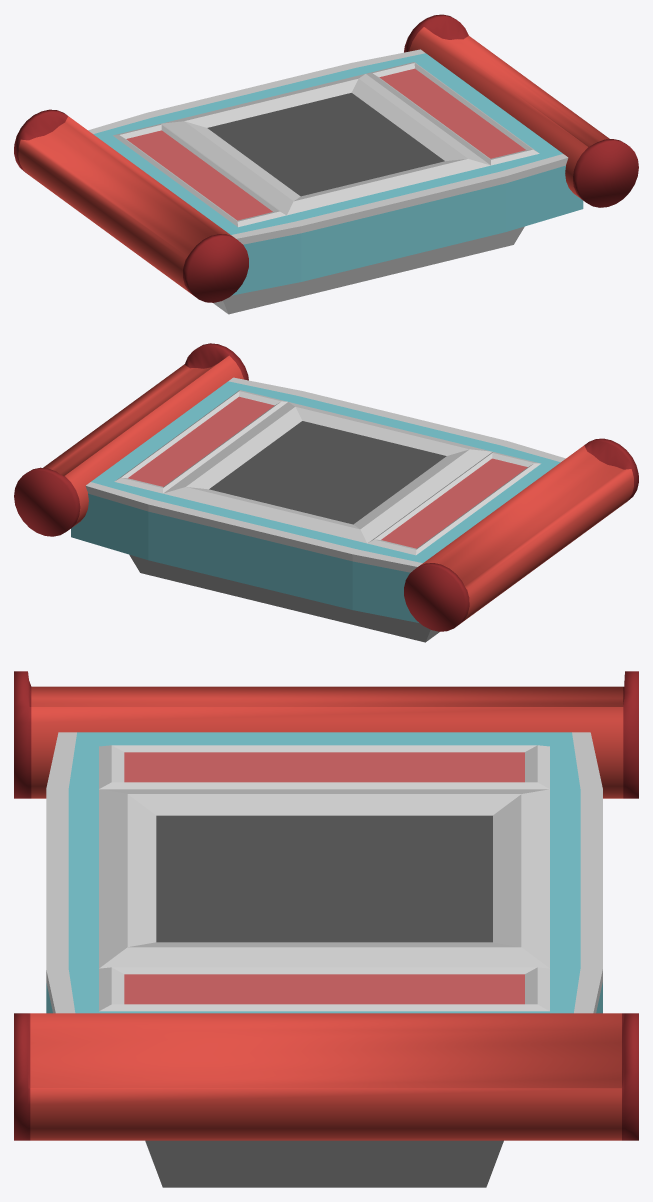
File: Payload.fbx
3 renders of one model, top to bottom at view 1: azimuth 30°, elevation 25°; view 2: azimuth 150°, elevation 25°; view 3: azimuth 270°, elevation 25°, orthographic. The views are drawn at different scales.
Parts seen in each view (by area): view 1: Cube; view 2: Cube; view 3: Cube.
Part boxes in pixels (bbox=[...]): Cube: bbox=[14, 14, 638, 314]; Cube: bbox=[14, 343, 638, 642]; Cube: bbox=[14, 671, 638, 1187].
Bounding box in the file's own units: 808 × 205 × 539.
